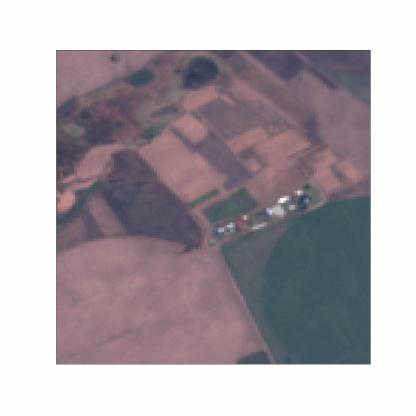silobolsa: (250, 219, 271, 233)
